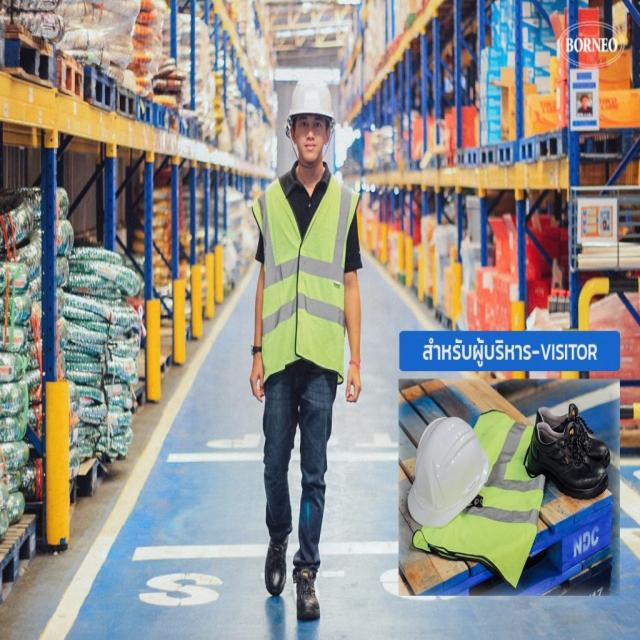Reflective-Jacket: (250, 167, 361, 382), (422, 410, 547, 590)
Safety-Helmet: (409, 412, 490, 528), (284, 69, 336, 125)
